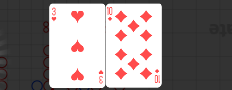10D: (154, 68, 161, 85)
3H: (51, 7, 58, 23)
